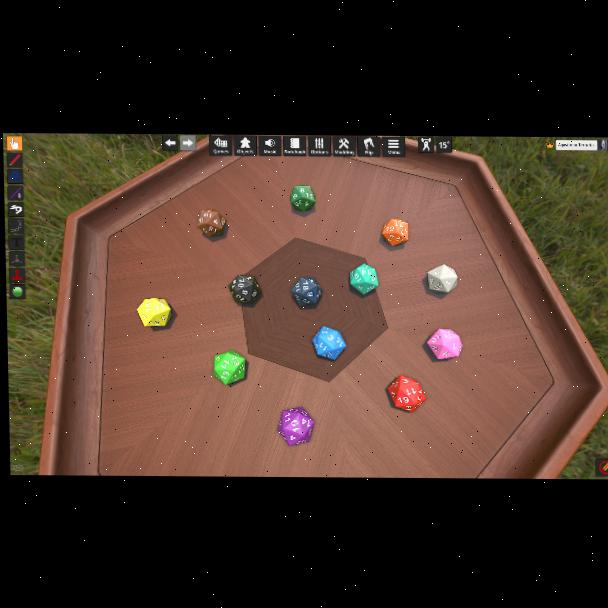d20: (278, 407, 315, 447), (388, 375, 422, 411), (311, 325, 344, 359), (214, 351, 247, 384), (426, 328, 461, 359), (137, 298, 173, 328), (291, 277, 324, 308), (228, 275, 261, 305), (196, 209, 226, 238), (349, 265, 377, 296), (426, 265, 456, 293), (381, 219, 407, 247), (290, 186, 315, 212)
